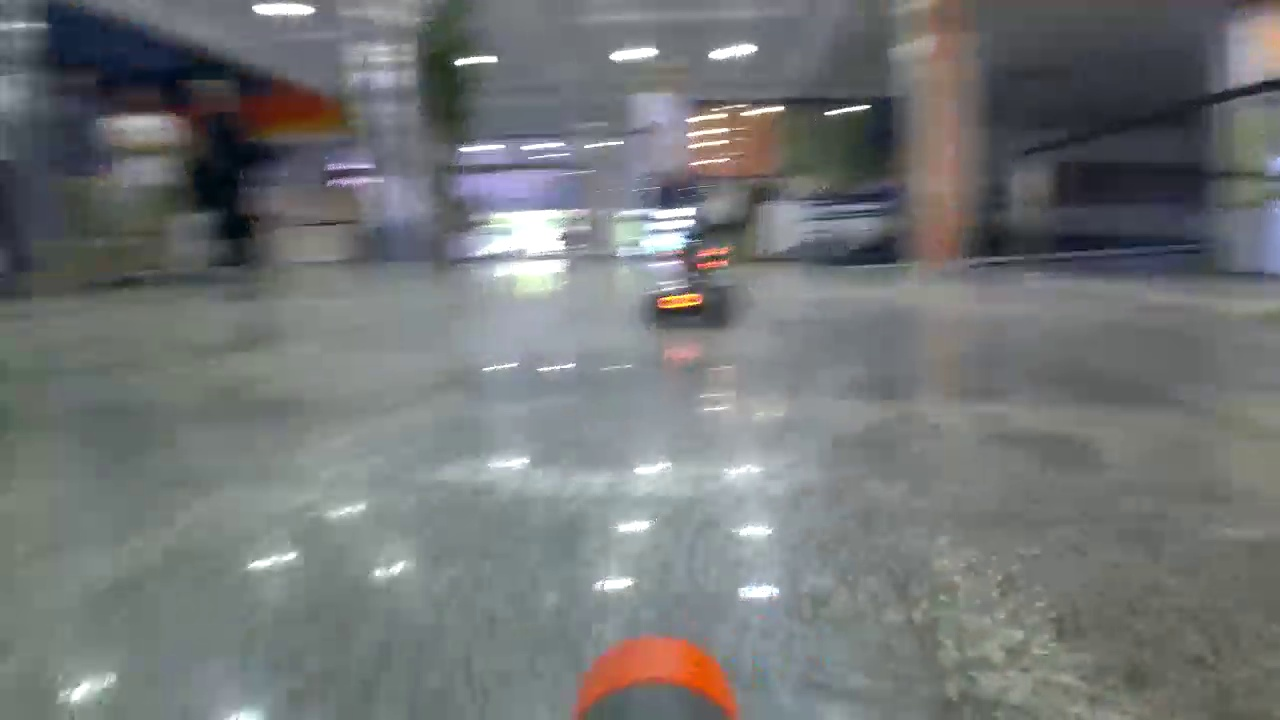robot: (649, 242, 735, 324)
